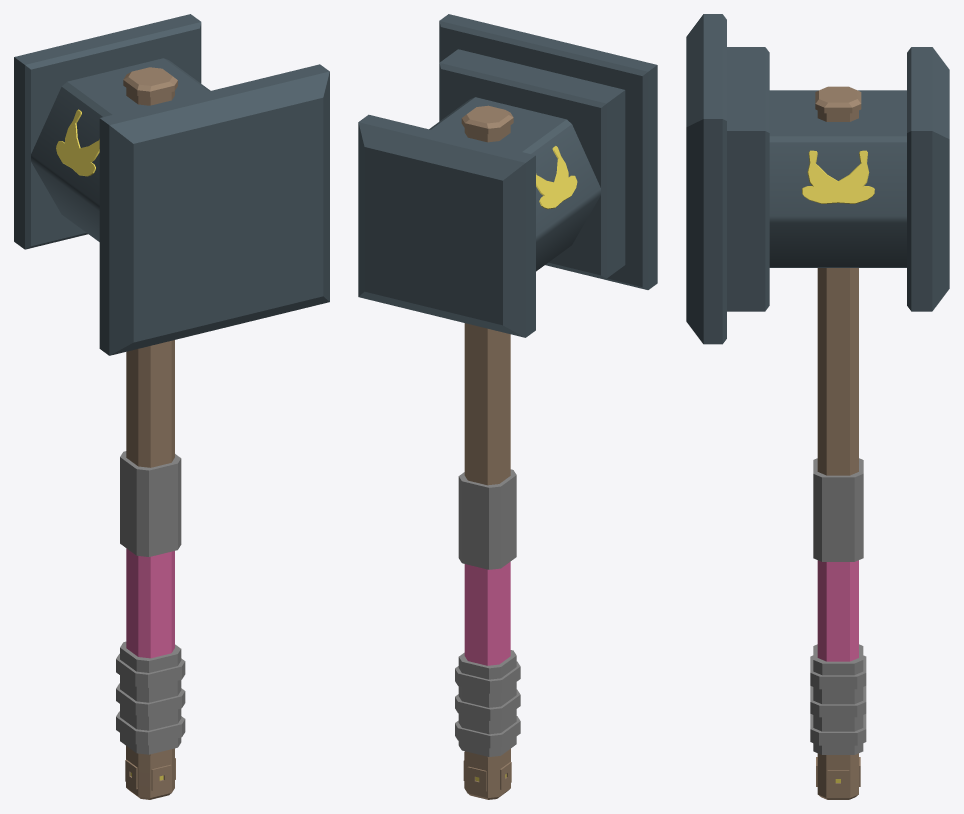
Rendered from HammerTex.fbx.
3 views of the same model, side by side, from view 1: azimuth 30°, elevation 25°; view 2: azimuth 150°, elevation 25°; view 3: azimuth 270°, elevation 25° (orthographic). The views are drawn at different scales.
Parts seen in each view (by area): view 1: Hammer; view 2: Hammer; view 3: Hammer.
Part boxes in pixels (x1,y1,x2,y2): Hammer: (14,14,329,799); Hammer: (358,14,657,799); Hammer: (686,14,949,799).
Bounding box in the file's own units: 154 × 495 × 163.
